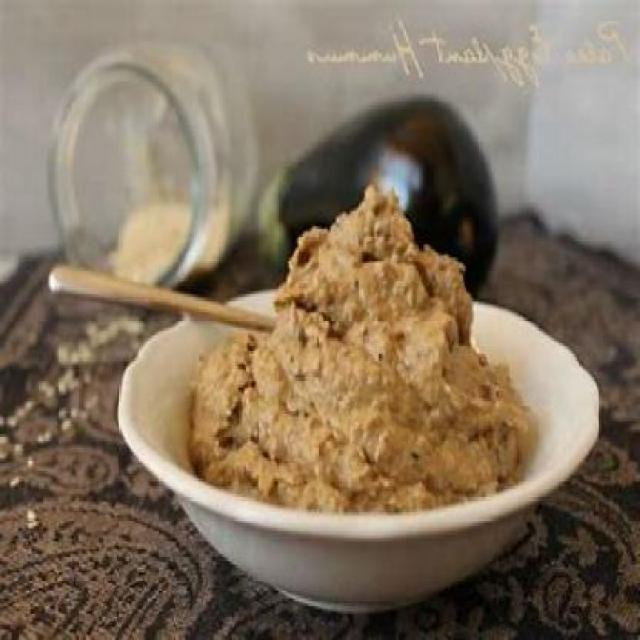eggplant: (251, 81, 509, 262)
hummus: (173, 198, 529, 525)
